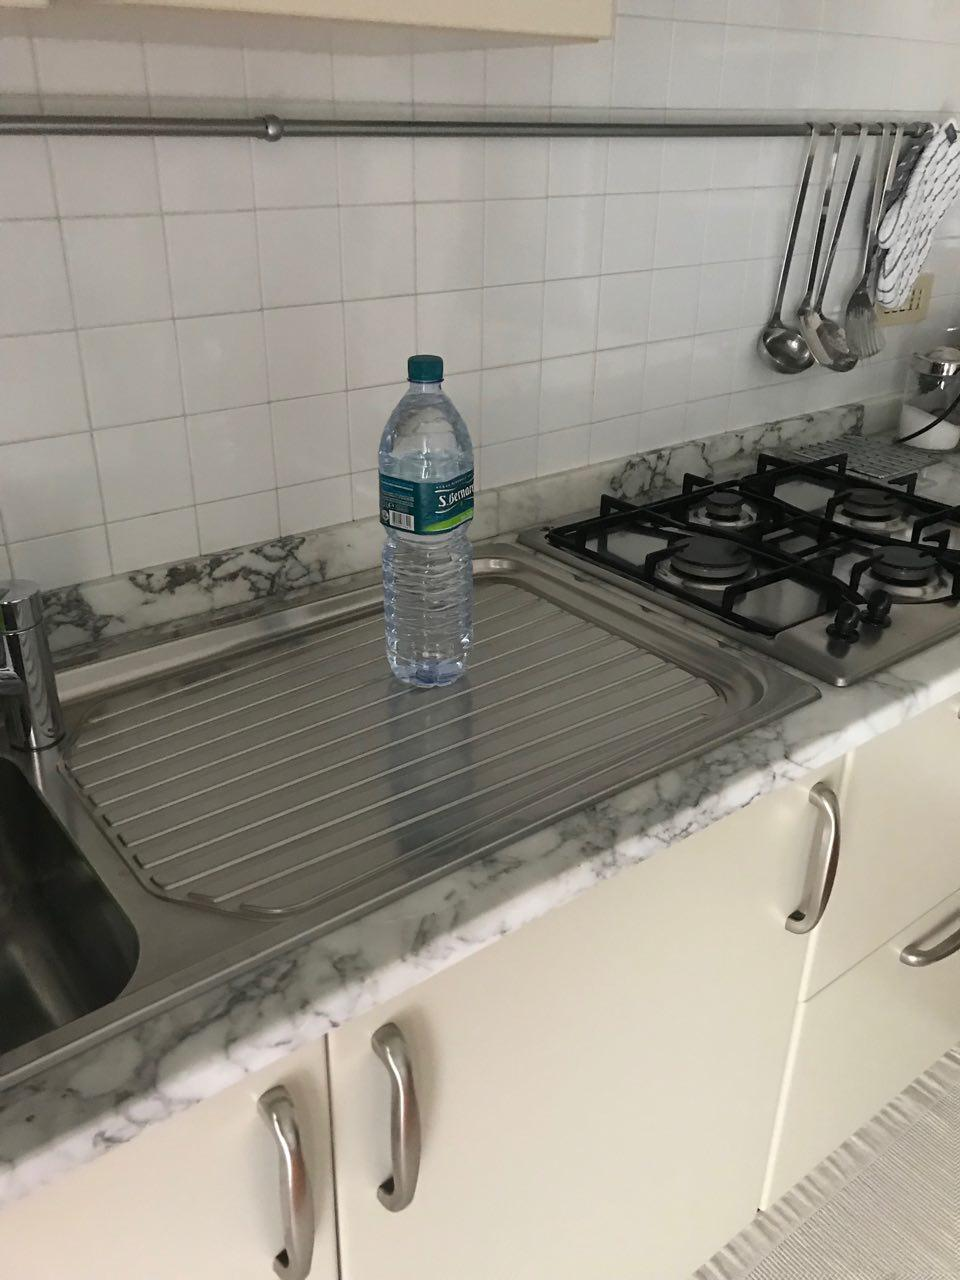san_bernardo: (377, 355, 475, 689)
